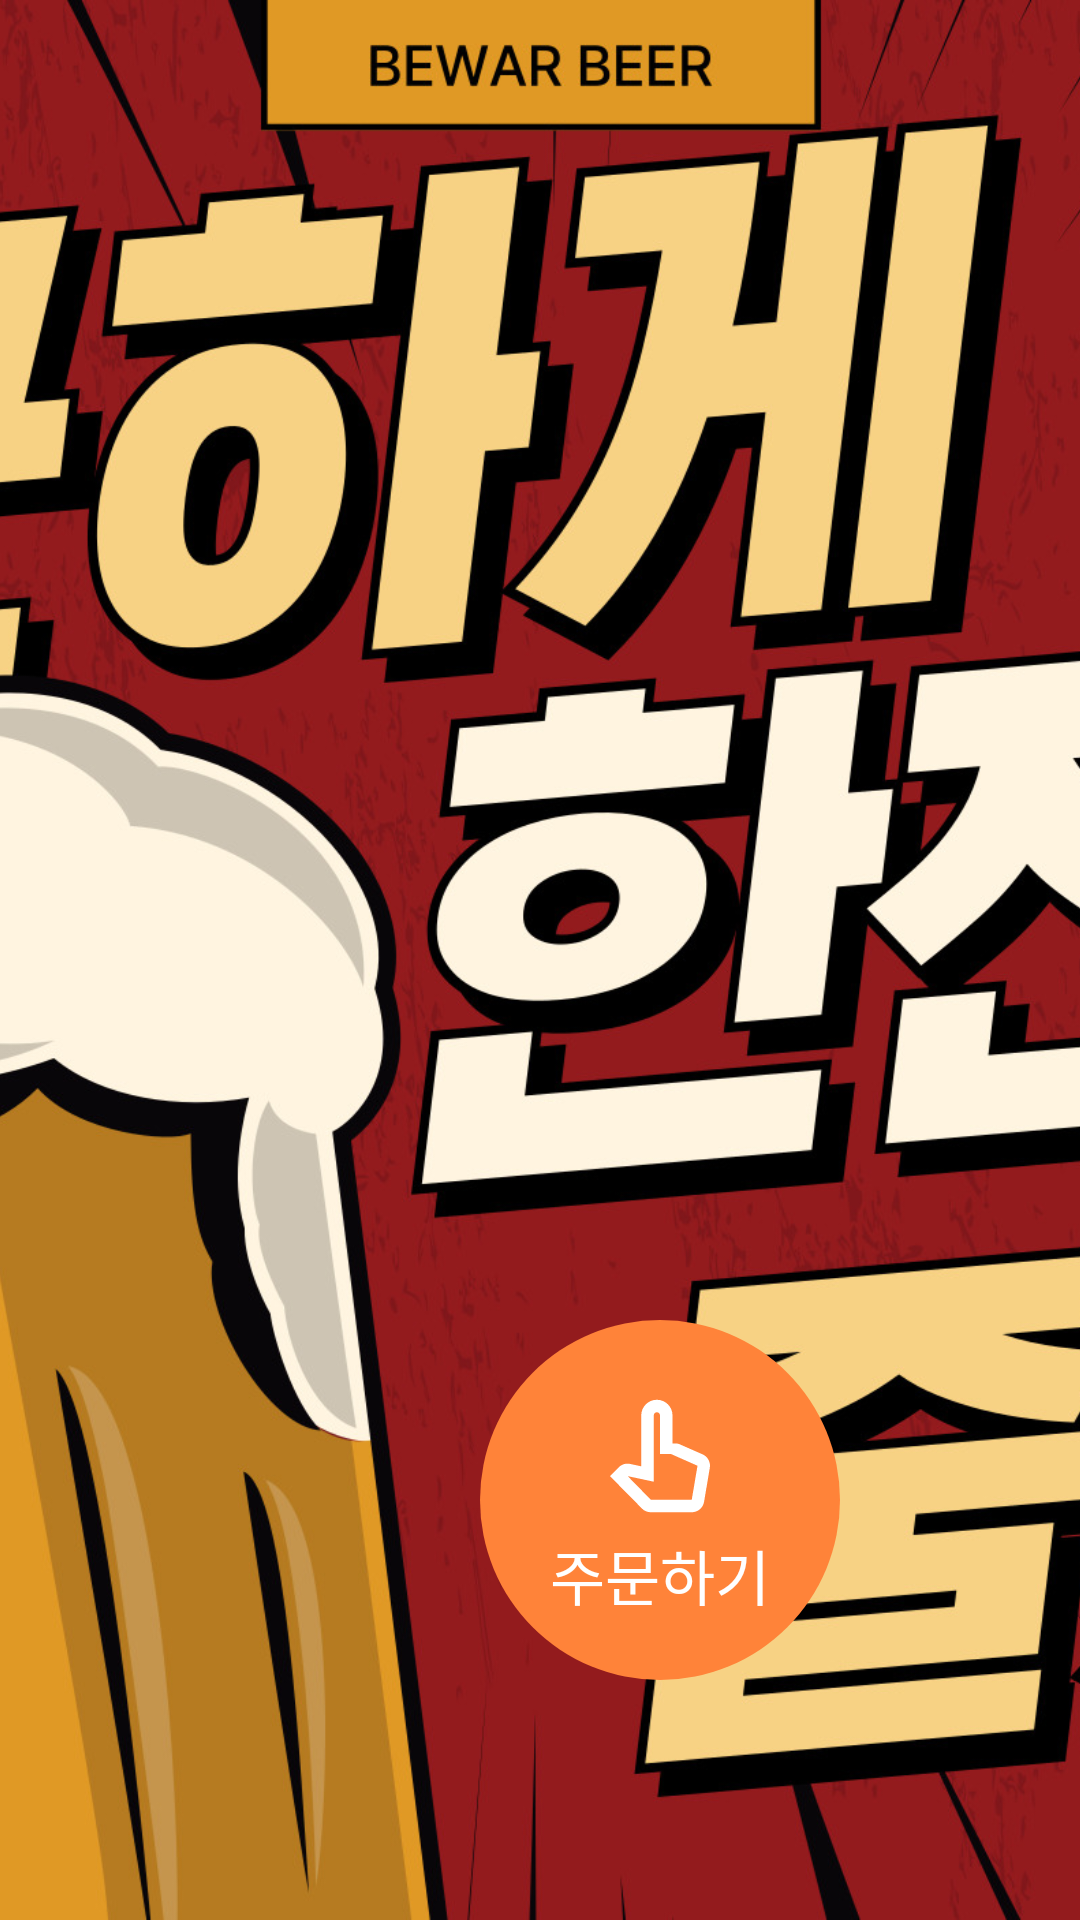

Screen size 1080×1920. Icon name, then its box in pixels as (x1, y1, x2, y2):
click: (610, 1399, 710, 1513)
